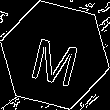M_N: (26, 25, 84, 85)
